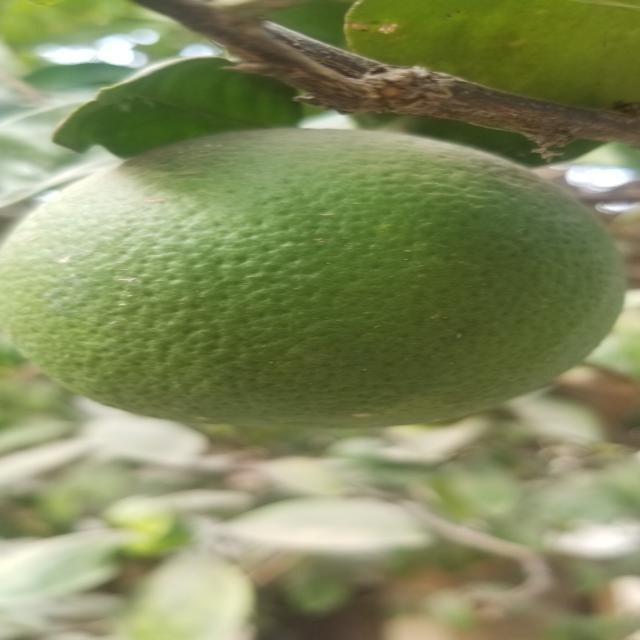agrume: (3, 129, 630, 422)
